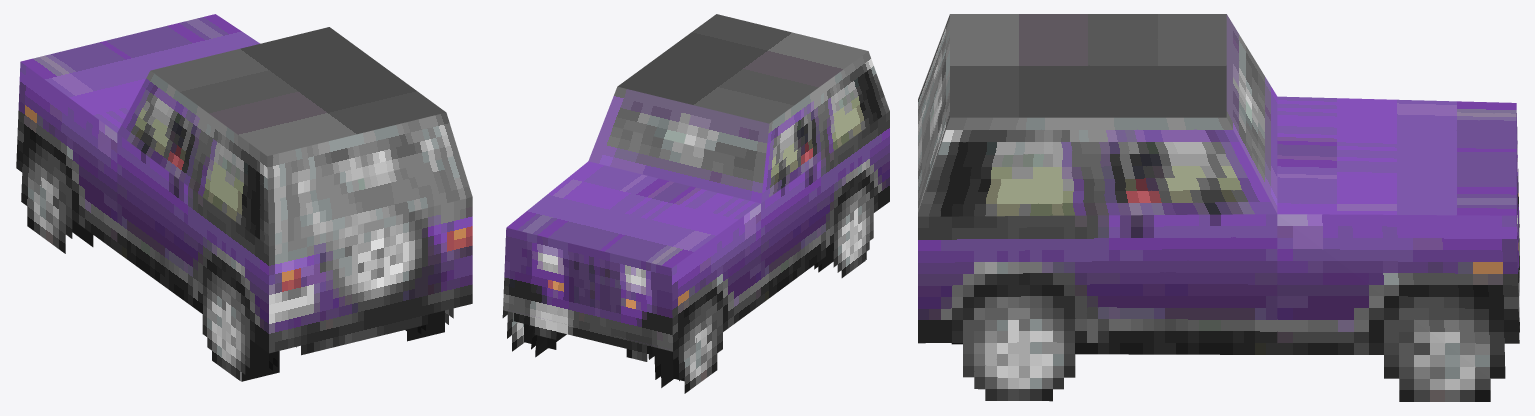
Rendered from car-jeep.glb.
The picture shows the model from 3 angles, left to right: view 1: azimuth 30°, elevation 25°; view 2: azimuth 150°, elevation 25°; view 3: azimuth 270°, elevation 25°; orthographic projection. The views are drawn at different scales.
Parts seen in each view (by area): view 1: plt0; view 2: plt0; view 3: plt0.
Part boxes in pixels (box(x1,y1,x2,y2)): plt0: box(16, 14, 472, 381); plt0: box(502, 14, 889, 393); plt0: box(918, 14, 1519, 401).
Size of the model in its own units: 1.5 by 1.65 by 3.25.
Materials: 13 (13 with a texture image).
